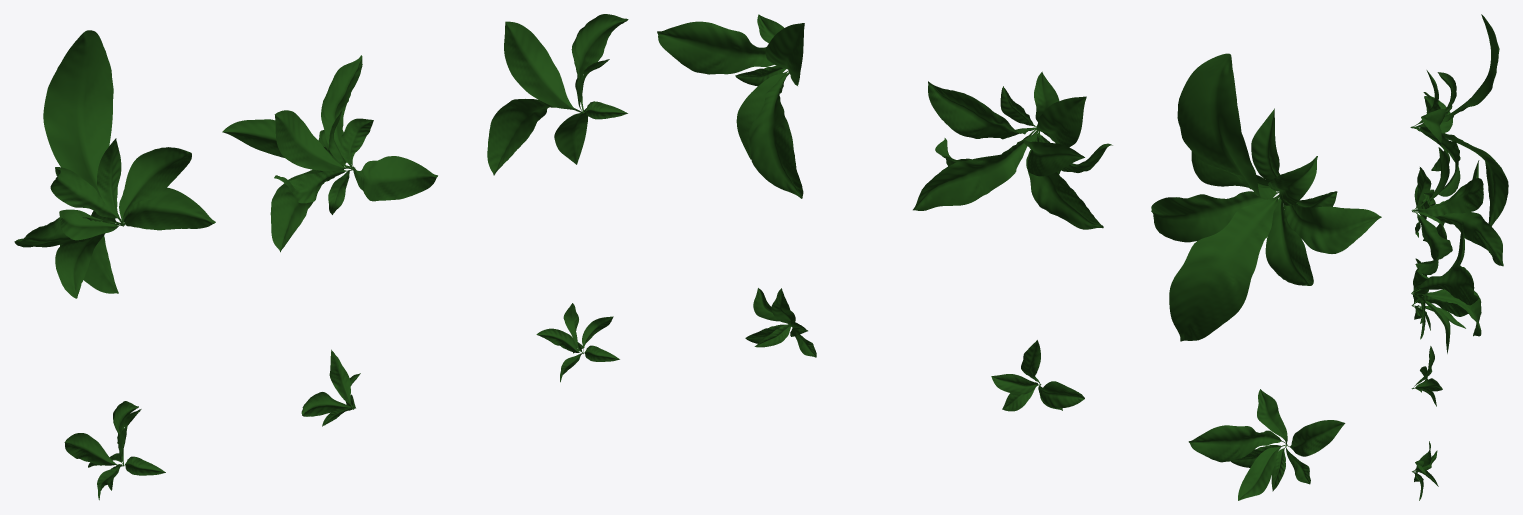
The model's file is anthurium_botany_01_2k.obj.
3 renders of one model, left to right at view 1: azimuth 30°, elevation 25°; view 2: azimuth 150°, elevation 25°; view 3: azimuth 270°, elevation 25°, orthographic. The views are drawn at different scales.
Parts seen in each view (by area): view 1: anthurium_botany_01_a, anthurium_botany_01_b, anthurium_botany_01_c, anthurium_botany_04_d, anthurium_botany_06_f, anthurium_botany_05_e; view 2: anthurium_botany_01_a, anthurium_botany_01_b, anthurium_botany_01_c, anthurium_botany_04_d, anthurium_botany_05_e, anthurium_botany_06_f; view 3: anthurium_botany_01_b, anthurium_botany_01_a, anthurium_botany_01_c, anthurium_botany_04_d, anthurium_botany_05_e, anthurium_botany_06_f.
Boxes of the visible parts, <box> form: anthurium_botany_01_a: <box>14,30,215,298</box>; anthurium_botany_01_b: <box>222,55,437,252</box>; anthurium_botany_01_c: <box>487,14,628,175</box>; anthurium_botany_04_d: <box>64,401,165,500</box>; anthurium_botany_06_f: <box>536,303,619,382</box>; anthurium_botany_05_e: <box>301,349,360,426</box>; anthurium_botany_01_a: <box>1151,53,1381,341</box>; anthurium_botany_01_b: <box>913,71,1112,229</box>; anthurium_botany_01_c: <box>657,14,804,198</box>; anthurium_botany_04_d: <box>1188,389,1345,500</box>; anthurium_botany_05_e: <box>991,340,1084,411</box>; anthurium_botany_06_f: <box>745,288,816,357</box>; anthurium_botany_01_b: <box>1411,147,1503,274</box>; anthurium_botany_01_a: <box>1410,14,1508,226</box>; anthurium_botany_01_c: <box>1411,222,1481,353</box>; anthurium_botany_04_d: <box>1411,258,1468,339</box>; anthurium_botany_05_e: <box>1411,346,1442,406</box>; anthurium_botany_06_f: <box>1412,441,1438,500</box>.
Size of the model in its own units: 2.8 by 1.8 by 0.4997.
